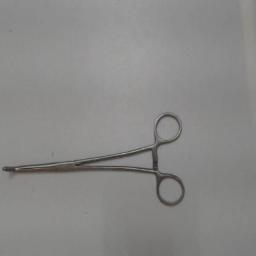Lahey Forceps: (2, 108, 186, 208)
